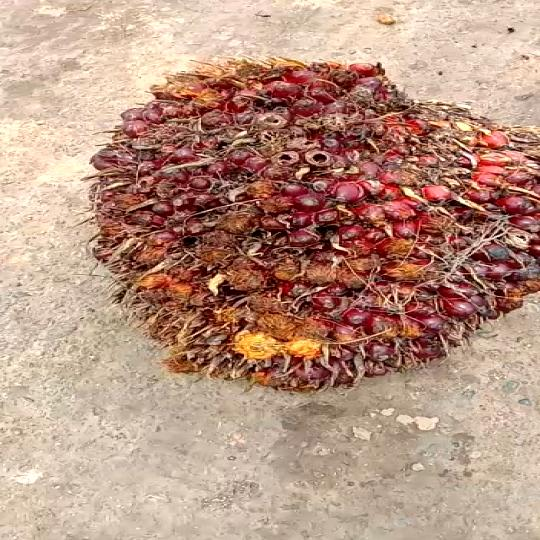masak: (99, 59, 540, 400)
